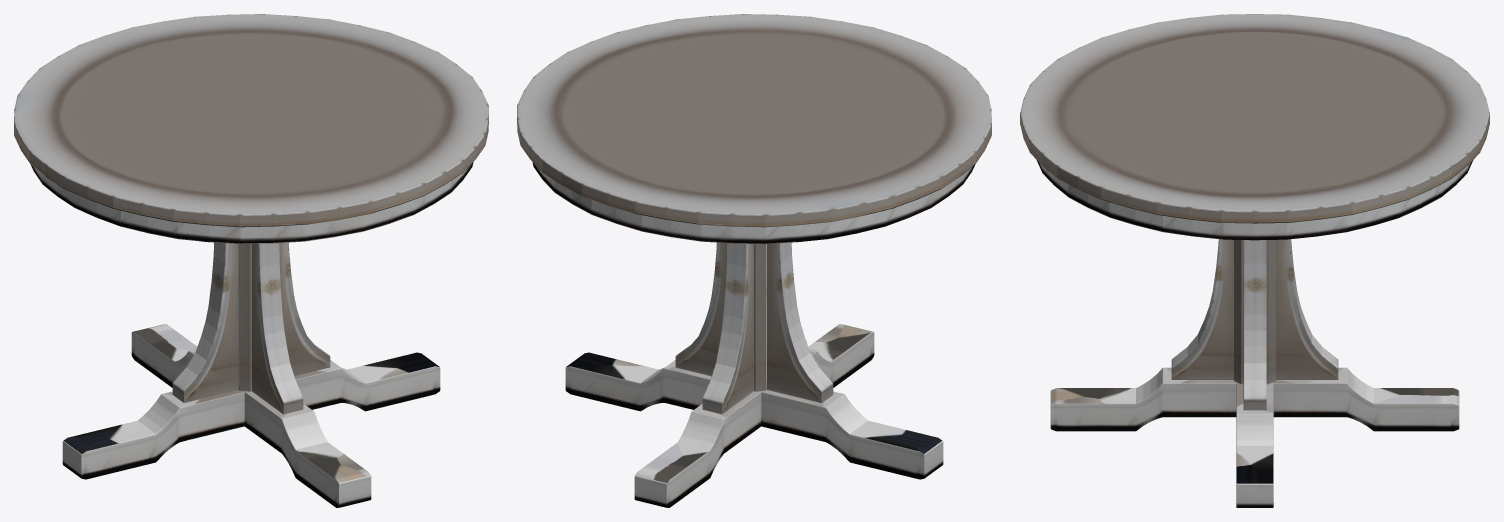
Rendered from edited_mesh.glb.
3 renders of one model, left to right at view 1: azimuth 30°, elevation 25°; view 2: azimuth 150°, elevation 25°; view 3: azimuth 270°, elevation 25°, orthographic.
Visible parts, largest first — view 1: normalized_model.obj; view 2: normalized_model.obj; view 3: normalized_model.obj.
Part boxes in pixels (<box>): normalized_model.obj: <box>14,14,488,507</box>; normalized_model.obj: <box>517,14,991,507</box>; normalized_model.obj: <box>1020,14,1489,507</box>.
Bounding box in the file's own units: 1.62 × 1.19 × 1.62.
1 material, 1 textured.
